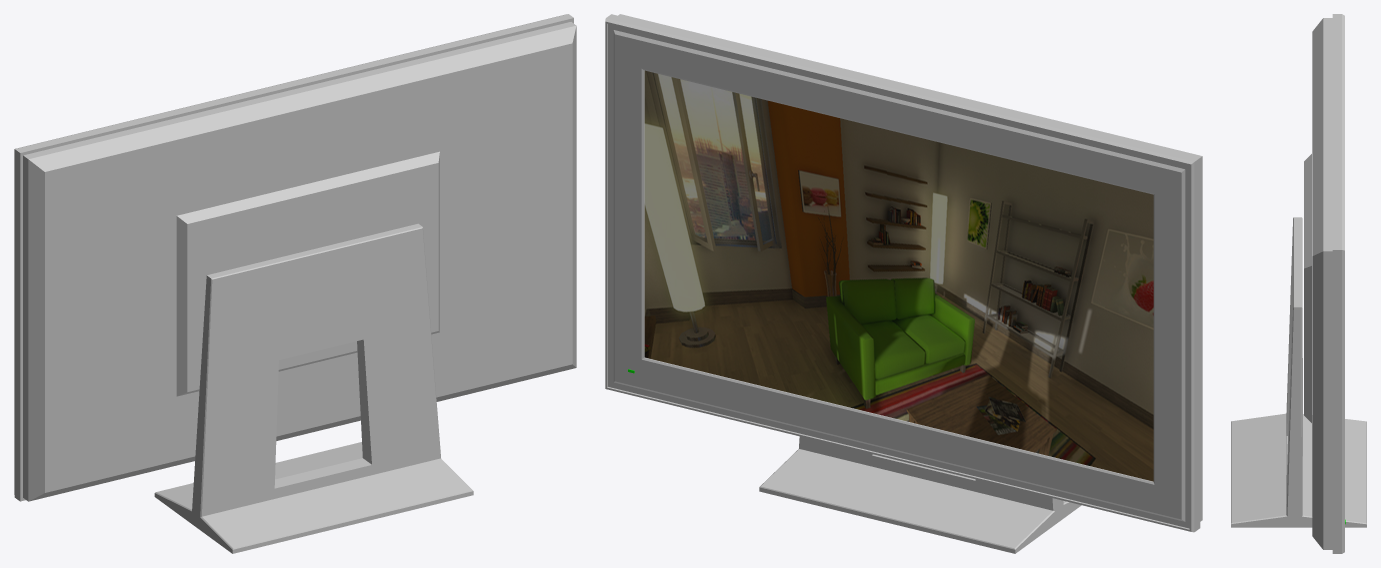
File: Tv_Plasma.FBX
3 views of the same model, side by side, from view 1: azimuth 30°, elevation 25°; view 2: azimuth 150°, elevation 25°; view 3: azimuth 270°, elevation 25° (orthographic). The views are drawn at different scales.
Parts seen in each view (by area): view 1: TV_Plasma; view 2: Screen, TV_Plasma; view 3: TV_Plasma.
Part boxes in pixels (x1,y1,x2,y2): TV_Plasma: [14, 14, 576, 553]; Screen: [644, 70, 1153, 481]; TV_Plasma: [605, 14, 1202, 553]; TV_Plasma: [1231, 14, 1366, 553].
Bounding box in the file's own units: 1.79 × 1.22 × 0.435.
